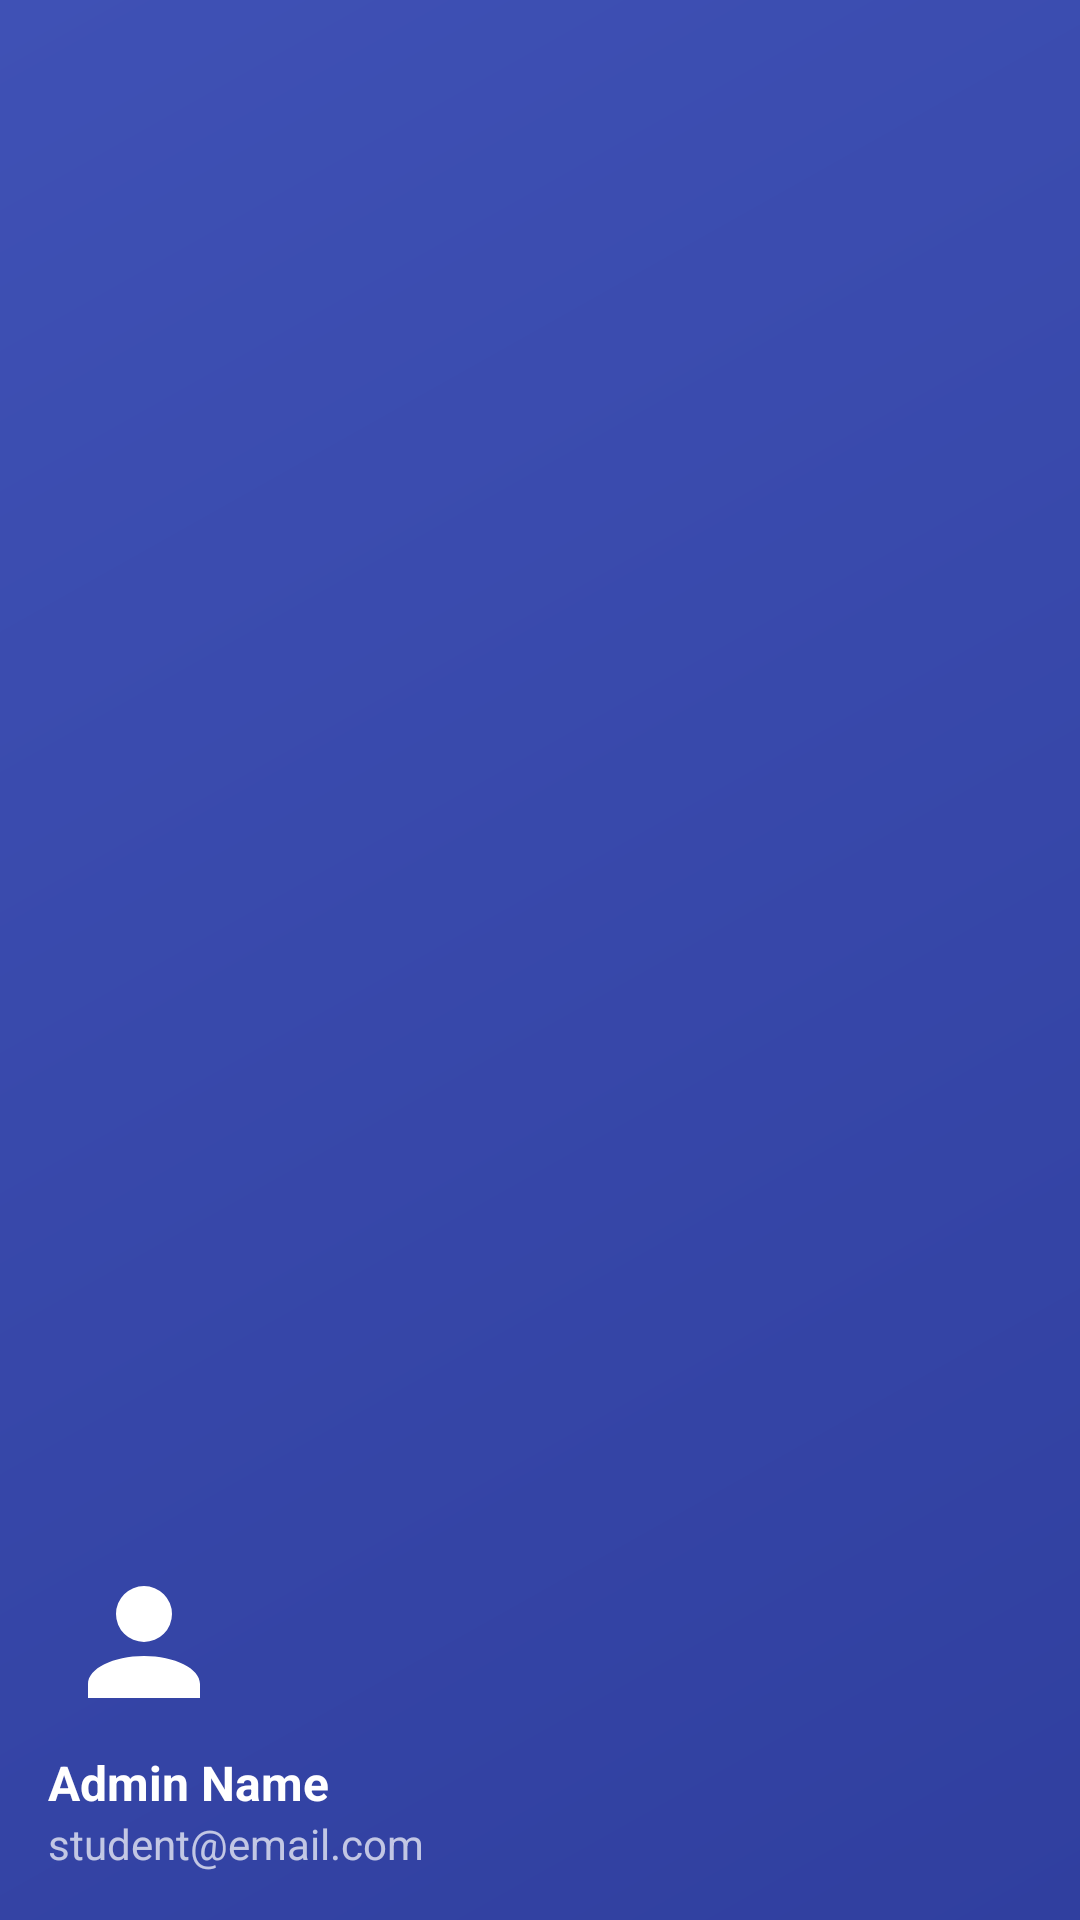

Icon bounding boxes for this 1080 x 1920 phone screenshot, format (x1, y1, x2, y2):
Profile Picture: (88, 1586, 200, 1698)
